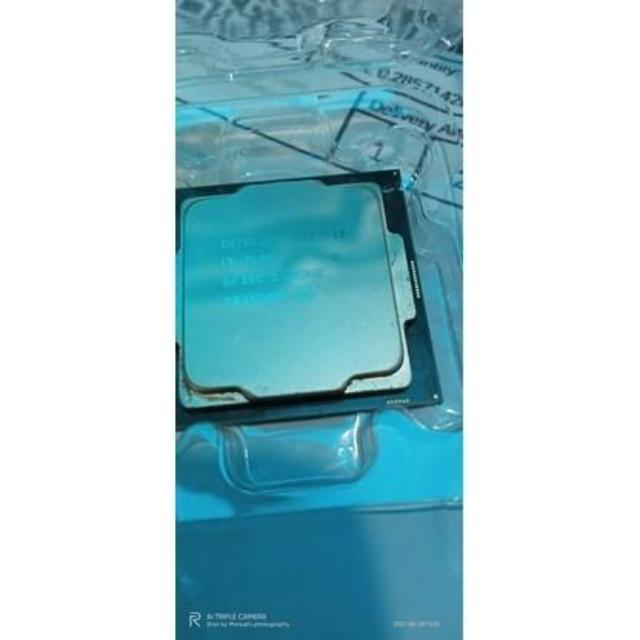CPU: (174, 173, 436, 421)
